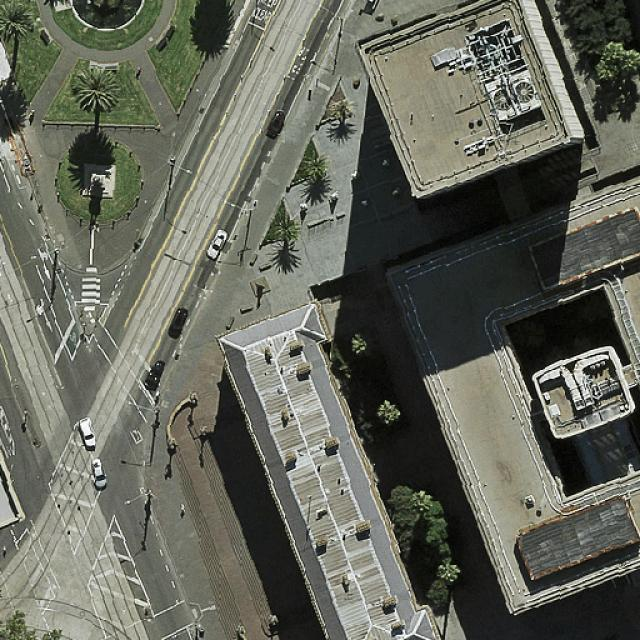Bike-Symbols: (67, 330, 79, 345), (50, 584, 60, 594), (29, 533, 38, 540)
